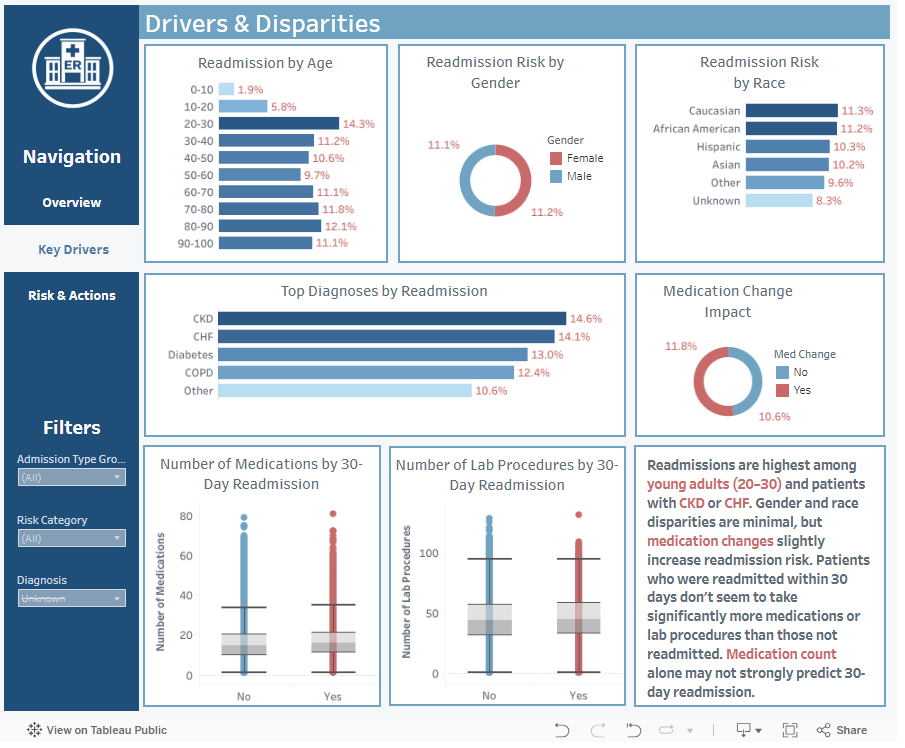

This screenshot's page, from the dashboard's own definition file:
{"tool":"tableau","page":{"name":"Drivers & Disparities","canvas":[1000,800],"ordinal":0},"visuals":[{"type":"image","param":"Image/ChatGPT_Image_Jan_13__2026__10_24_58_PM-removebg-preview.png","box":[8,8,150,141]},{"type":"title","box":[158,8,834,38]},{"type":"worksheet","title":"Readmission by Age","mark":"Automatic","rows":["AGE"],"cols":["Calculation_0862594184593416"],"box":[158,46,282,254]},{"type":"worksheet","title":"Readmission by Gender","mark":"Pie","rows":["Calculation_0436533603106816","Calculation_0436533603106816"],"box":[440,46,264,254]},{"type":"worksheet","title":"Readmission Risk by Race","mark":"Automatic","rows":["RACE"],"cols":["Calculation_0862594184593416"],"box":[704,46,288,254]},{"type":"legend","title":"Readmission by Gender","param":"[federated.10oliyl0d1wr1h15zaqq71486b4k].[none:GENDER:nk]","box":[607,145,87,67]},{"type":"text","box":[8,149,150,51]},{"type":"dashboard-object","box":[8,200,150,52]},{"type":"dashboard-object","box":[8,252,150,52]},{"type":"worksheet","title":"Top Diagnoses by Readmission","mark":"Automatic","rows":["DIAG_1"],"cols":["Calculation_0862594184593416"],"box":[158,300,546,193]},{"type":"worksheet","title":"Medication Change Impact","mark":"Pie","rows":["Calculation_0436533603106816","Calculation_0436533603106816"],"box":[704,300,288,193]},{"type":"dashboard-object","box":[8,304,150,52]},{"type":"blank","box":[8,356,150,101]},{"type":"legend","title":"Medication Change Impact","param":"[federated.10oliyl0d1wr1h15zaqq71486b4k].[none:MEDICATION_CHANGE:nk]","box":[859,383,122,67]},{"type":"text","box":[8,457,150,36]},{"type":"filter","title":"Top Diagnoses by Readmission","param":"[federated.10oliyl0d1wr1h15zaqq71486b4k].[none:Calculation_0862594181267456:nk]","box":[8,493,150,68]},{"type":"worksheet","title":"Number of Medications by 30-Day Readmission","mark":"Circle","rows":["NUM_MEDICATIONS"],"cols":["READMIT_30D"],"box":[158,493,273,299]},{"type":"worksheet","title":"Number of Lab Procedures by 30-Day Readmission","mark":"Circle","rows":["NUM_LAB_PROCEDURES"],"cols":["READMIT_30D"],"box":[431,493,273,299]},{"type":"text","box":[704,493,288,299]},{"type":"filter","title":"Top Diagnoses by Readmission","param":"[federated.10oliyl0d1wr1h15zaqq71486b4k].[none:RISK_CATEGORY:nk]","box":[8,561,150,67]},{"type":"filter","title":"Top Diagnoses by Readmission","param":"[federated.10oliyl0d1wr1h15zaqq71486b4k].[none:DIAG_1:nk]","box":[8,628,150,74]}]}

Visuals, with their boxes on the page's 1000x800 design canvas (x1, y1, x2, y2). These are canvas units, not pixel positions in the 905x748 screenshot, which may show the page scaled, cropped or inside an application window:
image: x1=8 y1=8 x2=158 y2=149
title: x1=158 y1=8 x2=992 y2=46
"Readmission by Age" worksheet: x1=158 y1=46 x2=440 y2=300
"Readmission by Gender" worksheet (Pie marks): x1=440 y1=46 x2=704 y2=300
"Readmission Risk by Race" worksheet: x1=704 y1=46 x2=992 y2=300
"Readmission by Gender" legend: x1=607 y1=145 x2=694 y2=212
text: x1=8 y1=149 x2=158 y2=200
dashboard-object: x1=8 y1=200 x2=158 y2=252
dashboard-object: x1=8 y1=252 x2=158 y2=304
"Top Diagnoses by Readmission" worksheet: x1=158 y1=300 x2=704 y2=493
"Medication Change Impact" worksheet (Pie marks): x1=704 y1=300 x2=992 y2=493
dashboard-object: x1=8 y1=304 x2=158 y2=356
blank: x1=8 y1=356 x2=158 y2=457
"Medication Change Impact" legend: x1=859 y1=383 x2=981 y2=450
text: x1=8 y1=457 x2=158 y2=493
"Top Diagnoses by Readmission" filter: x1=8 y1=493 x2=158 y2=561
"Number of Medications by 30-Day Readmission" worksheet (Circle marks): x1=158 y1=493 x2=431 y2=792
"Number of Lab Procedures by 30-Day Readmission" worksheet (Circle marks): x1=431 y1=493 x2=704 y2=792
text: x1=704 y1=493 x2=992 y2=792
"Top Diagnoses by Readmission" filter: x1=8 y1=561 x2=158 y2=628
"Top Diagnoses by Readmission" filter: x1=8 y1=628 x2=158 y2=702
